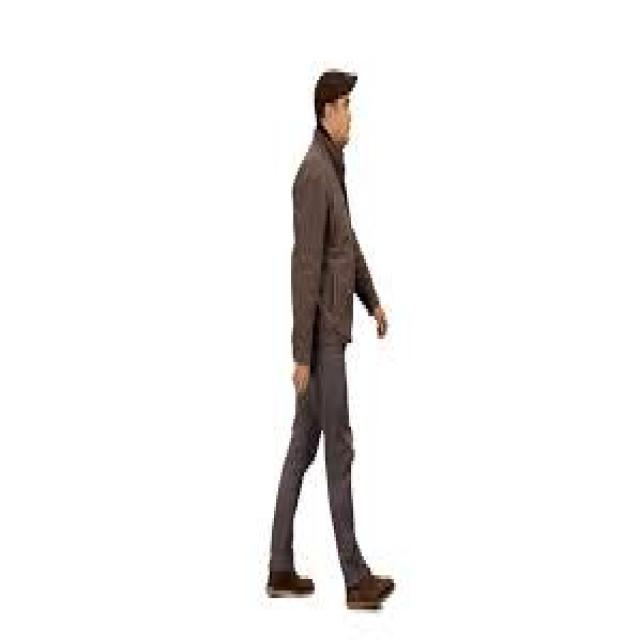nonfall: (259, 51, 394, 602)
